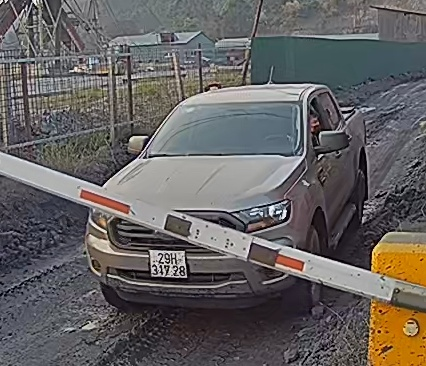vehicle plate: (143, 246, 187, 278)
